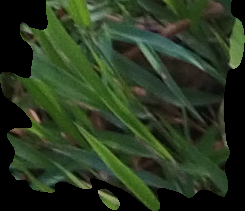grass: (1, 1, 244, 209)
